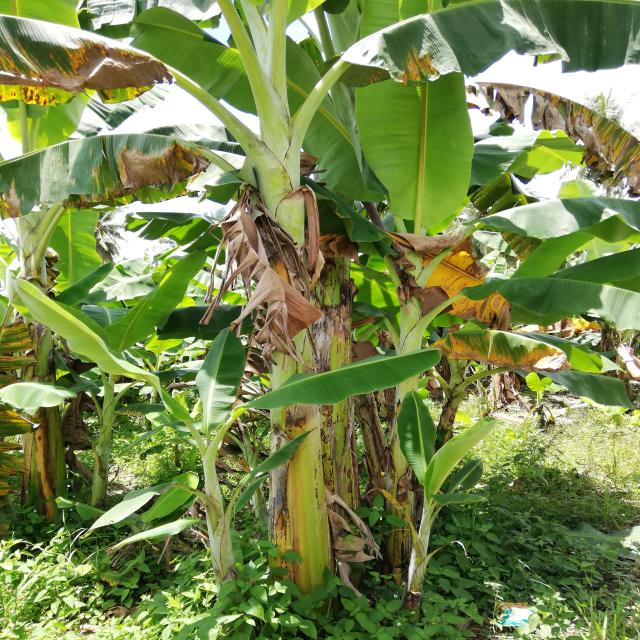Banana-plant: (197, 74, 354, 598)
